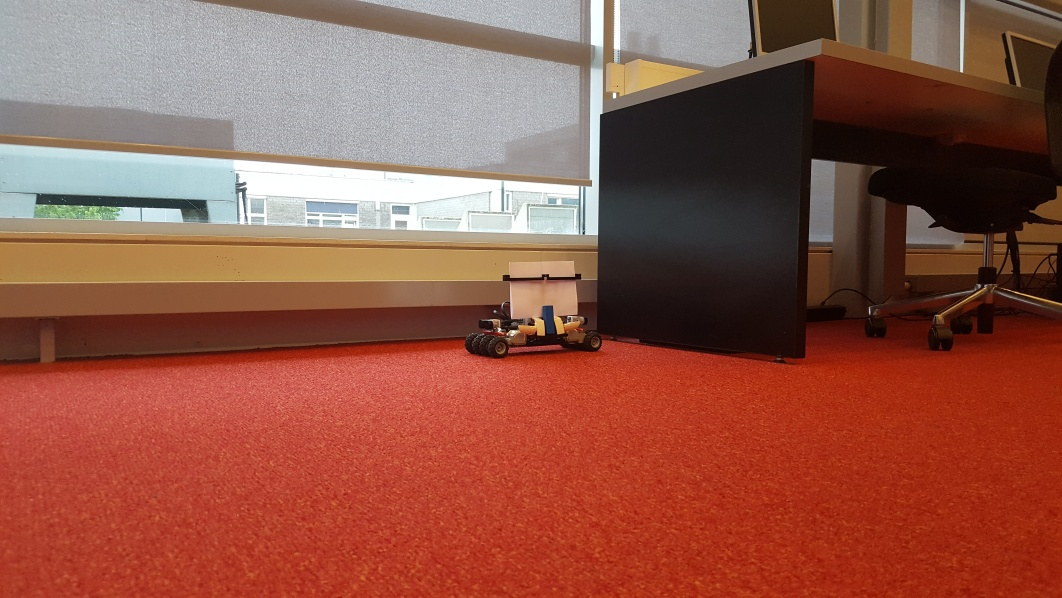car: (460, 259, 607, 362)
